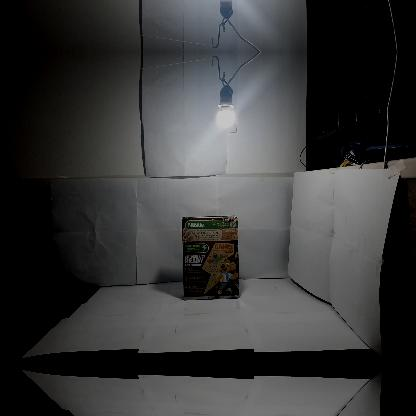Koko-Krunch: (181, 214, 239, 300)
